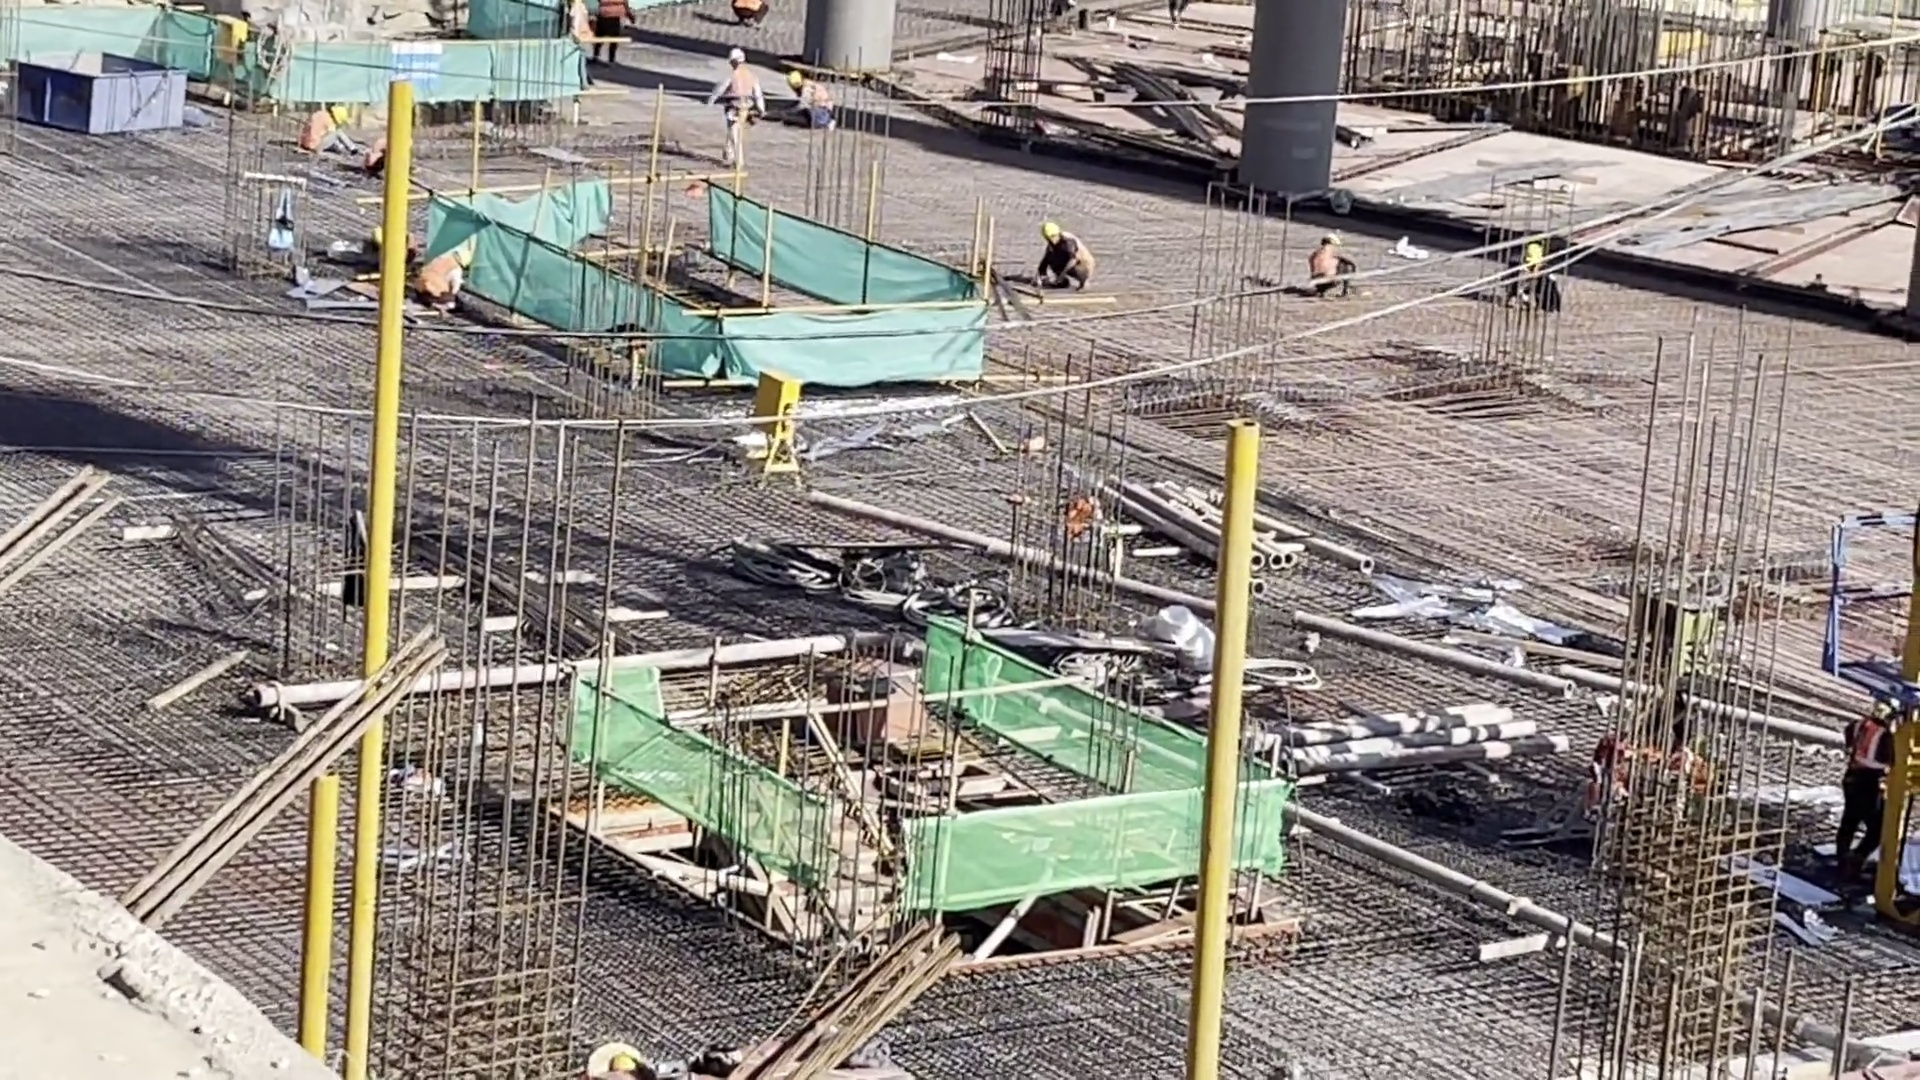helmet: (1040, 223, 1063, 241), (451, 249, 470, 270), (1525, 242, 1542, 263), (331, 105, 347, 127), (728, 48, 744, 62), (792, 74, 800, 89)
person: (1836, 695, 1898, 881), (709, 51, 763, 160), (1038, 222, 1096, 291), (1311, 233, 1359, 300), (302, 106, 362, 158), (416, 249, 472, 305), (589, 1, 629, 68), (786, 74, 832, 130)
vest: (1852, 723, 1888, 780), (420, 254, 456, 301), (727, 69, 751, 111), (1311, 242, 1336, 281), (308, 107, 327, 158)
